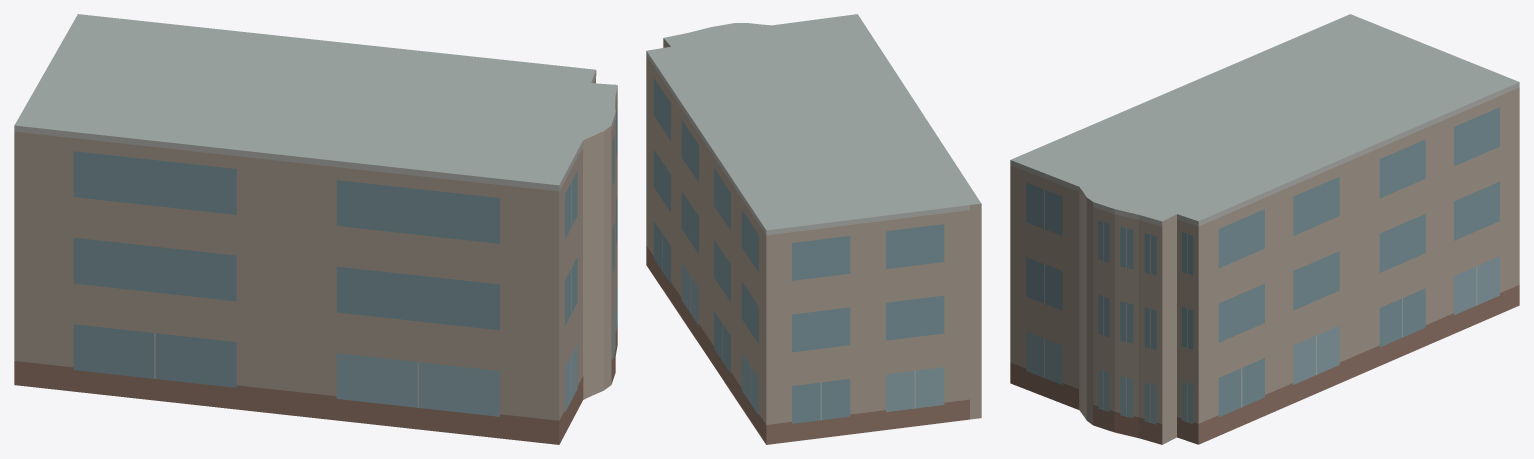
The model's file is survey-upis-32839630.glb.
3 views of the same model, side by side, from view 1: azimuth 30°, elevation 25°; view 2: azimuth 150°, elevation 25°; view 3: azimuth 270°, elevation 25° (orthographic). The views are drawn at different scales.
Visible parts, largest first — view 1: survey-upis-32839630.tmp; view 2: survey-upis-32839630.tmp; view 3: survey-upis-32839630.tmp.
Boxes of the visible parts, x1,y1,x2,y2 form: survey-upis-32839630.tmp: [14, 14, 617, 444]; survey-upis-32839630.tmp: [646, 14, 981, 444]; survey-upis-32839630.tmp: [1010, 14, 1519, 444].
Bounding box in the file's own units: 20.73 × 10.4 × 21.5.
